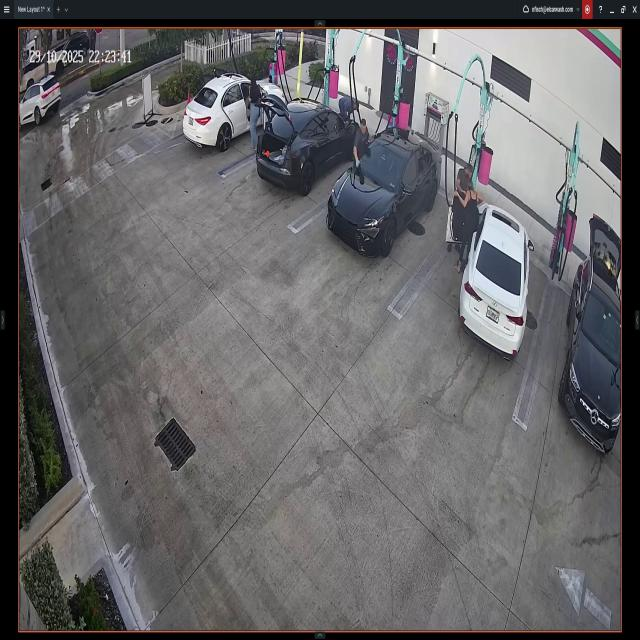Car: (328, 117, 444, 259), (446, 173, 534, 359), (555, 213, 621, 451), (258, 92, 370, 198), (184, 72, 285, 160), (21, 85, 62, 127)
